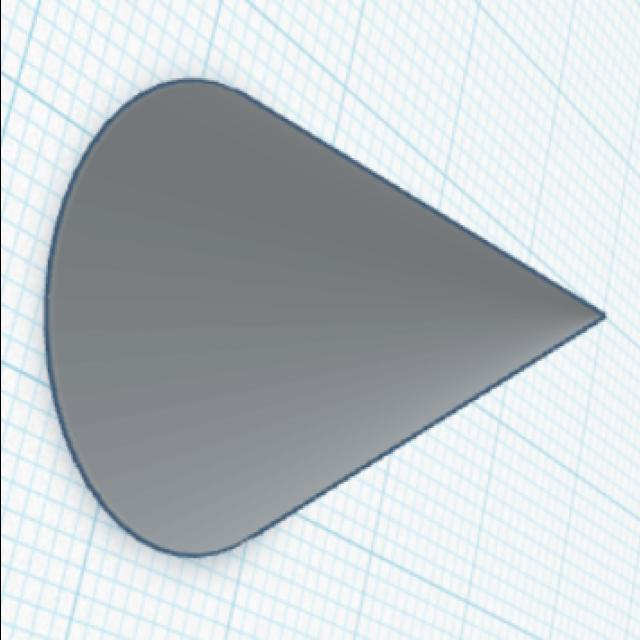cone: (38, 70, 611, 564)
